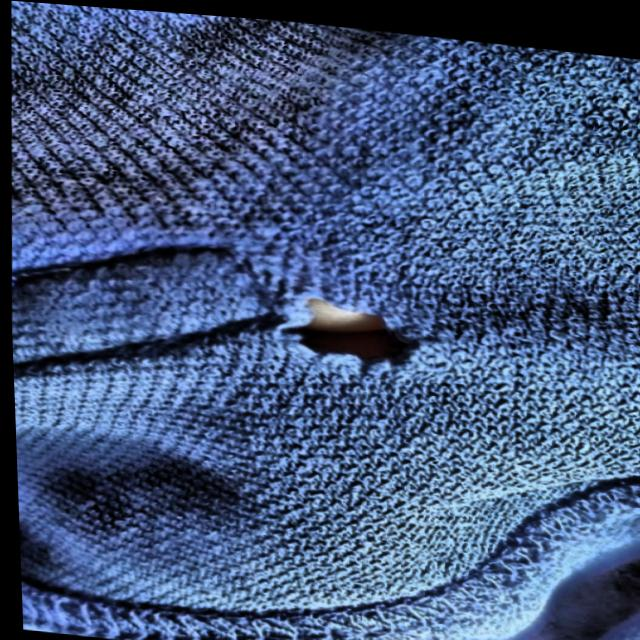Hole: (266, 265, 428, 381)
